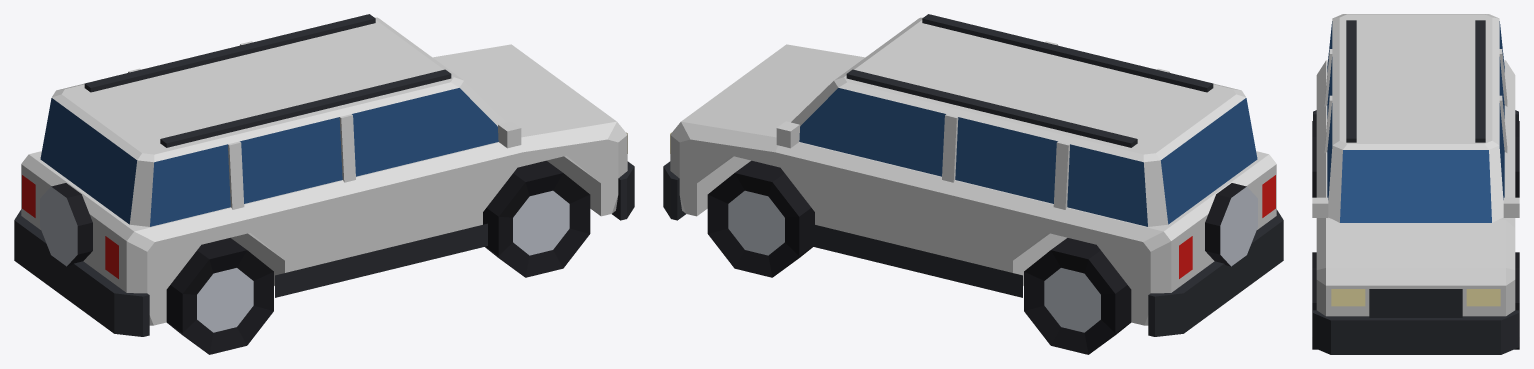
The model's file is suv.glb.
3 views of the same model, side by side, from view 1: azimuth 30°, elevation 25°; view 2: azimuth 150°, elevation 25°; view 3: azimuth 270°, elevation 25° (orthographic). The views are drawn at different scales.
Visible parts, largest first — view 1: Body; view 2: Body; view 3: Body.
Part boxes in pixels (bbox=[...]): Body: bbox=[14, 14, 634, 354]; Body: bbox=[663, 14, 1283, 354]; Body: bbox=[1312, 14, 1519, 354].
Bounding box in the file's own units: 0.489 × 0.18 × 0.196.
